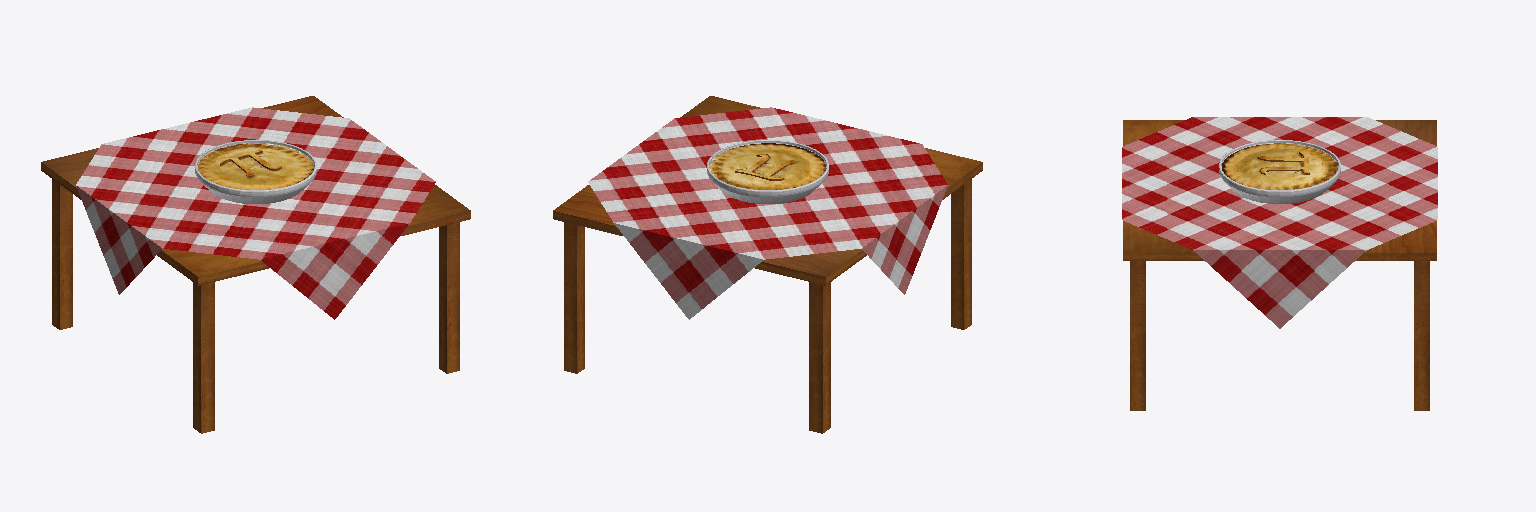
The picture shows the model from 3 angles: view 1: azimuth 30°, elevation 25°; view 2: azimuth 150°, elevation 25°; view 3: azimuth 270°, elevation 25°; orthographic projection.
Visible parts, largest first — view 1: table_cover, table, pie; view 2: table_cover, table, pie; view 3: table_cover, table, pie.
Part boxes in pixels (left/top/right/bottom): table_cover: left=76, top=107, right=435, bottom=319; table: left=41, top=96, right=470, bottom=433; pie: left=195, top=140, right=316, bottom=203; table_cover: left=588, top=107, right=947, bottom=319; table: left=553, top=96, right=982, bottom=433; pie: left=707, top=140, right=828, bottom=203; table_cover: left=1122, top=117, right=1437, bottom=328; table: left=1123, top=120, right=1436, bottom=410; pie: left=1219, top=140, right=1340, bottom=203.
Size of the model in its own units: 4.01 by 2.57 by 4.01.
1 materials, 1 textured.